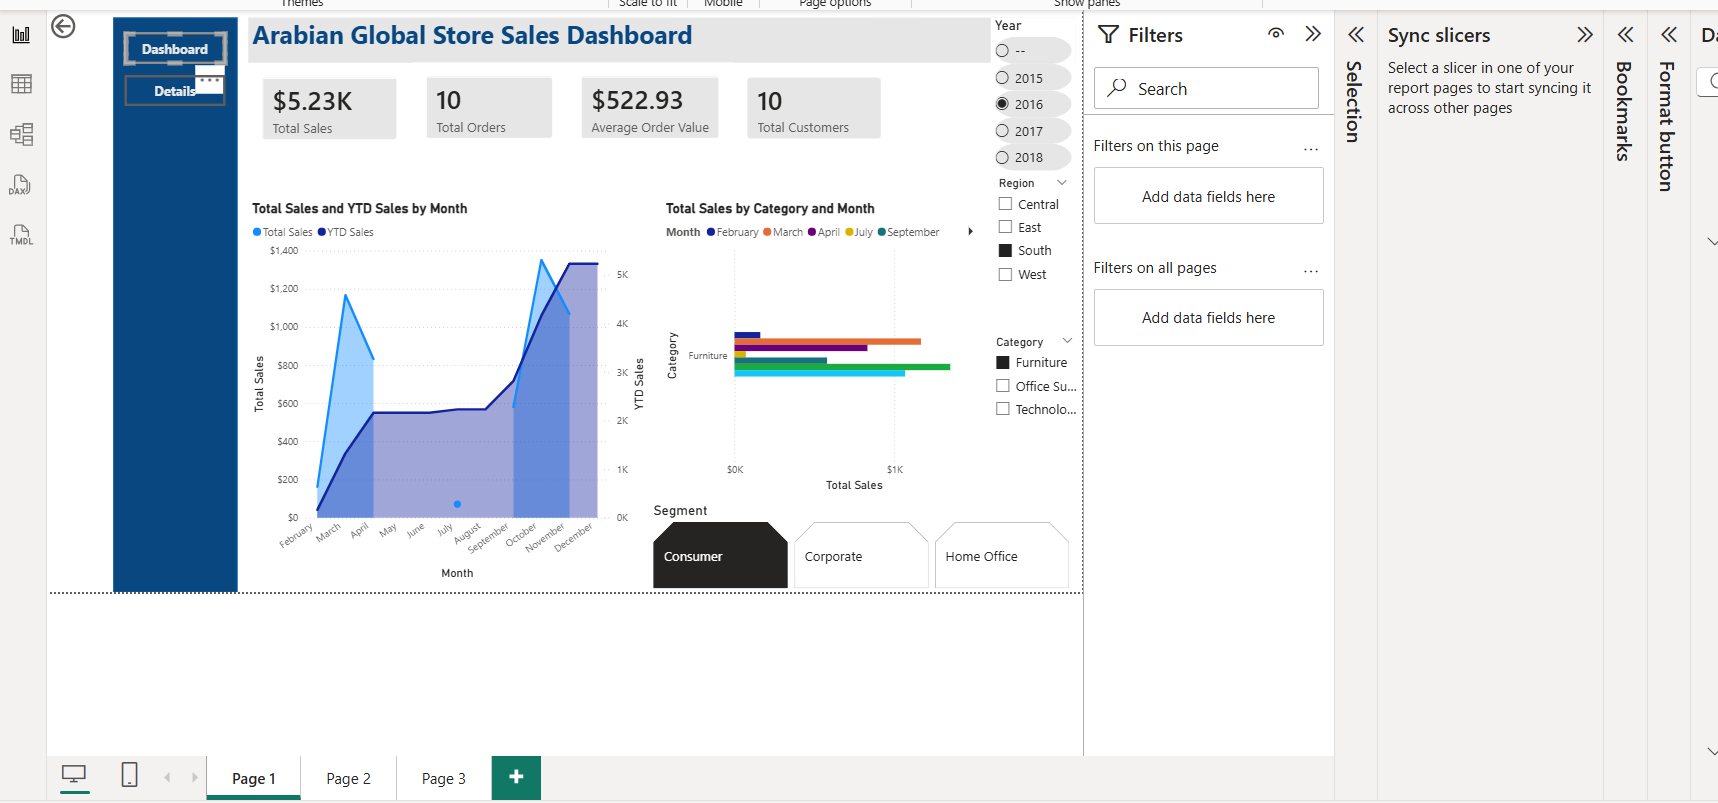

Layout of this report page (visuals, bound fields, positions):
{"tool":"powerbi","page":{"name":"Page 1","canvas":[1280,720],"ordinal":0},"visuals":[{"type":"shape","box":[82.3,9.6,153.7,710.8],"z":0},{"type":"textbox","title":"Arabian Global Store            Sales Dashboard","box":[248.3,9.6,1022.3,56.3],"z":0,"group":"g1"},{"type":"actionButton","box":[96.1,27.4,124.9,38.4],"z":1000},{"type":"cardVisual","fields":{"Data":["Fact_Orders.Total Sales"]},"box":[248.2,66,201.8,111.3],"z":1000,"group":"g1"},{"type":"cardVisual","fields":{"Data":["Fact_Orders.Total Orders"]},"box":[450,64.8,192,111.3],"z":2000,"group":"g1"},{"type":"actionButton","box":[96.1,79.6,124.9,38.4],"z":2000},{"type":"group","id":"g1","title":"Group 1","box":[248.2,9.6,1032.1,710.6],"z":3000},{"type":"cardVisual","fields":{"Data":["Fact_Orders.Average Order Value"]},"box":[642,64.8,205.4,111.3],"z":3000,"group":"g1"},{"type":"areaChart","fields":{"Category":["Dim_Date.Month"],"Y":["Fact_Orders.Total Sales"],"Y2":["Fact_Orders.YTD Sales"]},"box":[248.2,234.8,496.5,474.5],"z":4000,"group":"g1"},{"type":"actionButton","box":[0,0,100,40],"z":5000},{"type":"clusteredBarChart","fields":{"Y":["Fact_Orders.Total Sales"],"Category":["Dim_Products.Category"],"Series":["Dim_Date.Month"]},"box":[759.3,234.8,401.1,365.6],"z":5000,"group":"g1"},{"type":"cardVisual","fields":{"Data":["Dim_Customers.Total Customers"]},"box":[847.4,66,200.5,110.1],"z":6000,"group":"g1"},{"type":"listSlicer","fields":{"Values":["Dim_Date.Year"]},"box":[1165.3,9.8,105.2,297.1],"z":7000,"group":"g1"},{"type":"slicer","fields":{"Values":["Fact_Orders.Region"]},"box":[1162.9,200.5,110.1,181],"z":8000,"group":"g1"},{"type":"slicer","fields":{"Values":["Dim_Products.Category"]},"box":[1160.4,397.4,119.8,220.1],"z":9000,"group":"g1"},{"type":"advancedSlicerVisual","fields":{"Values":["Dim_Customers.Segment"]},"box":[744.7,609,525.8,111.3],"z":10000,"group":"g1"}]}

Visuals, with their boxes on the page's 1280x720 design canvas (x1, y1, x2, y2). These are canvas units, not pixel positions in the 1718x803 screenshot, which may show the page scaled, cropped or inside an application window:
shape: x1=82 y1=10 x2=236 y2=720
"Arabian Global Store            Sales Dashboard" textbox: x1=248 y1=10 x2=1271 y2=66
actionButton: x1=96 y1=27 x2=221 y2=66
cardVisual - Fact_Orders.Total Sales: x1=248 y1=66 x2=450 y2=177
cardVisual - Fact_Orders.Total Orders: x1=450 y1=65 x2=642 y2=176
actionButton: x1=96 y1=80 x2=221 y2=118
"Group 1" group: x1=248 y1=10 x2=1280 y2=720
cardVisual - Fact_Orders.Average Order Value: x1=642 y1=65 x2=847 y2=176
areaChart - Dim_Date.Month x Fact_Orders.Total Sales: x1=248 y1=235 x2=745 y2=709
actionButton: x1=0 y1=0 x2=100 y2=40
clusteredBarChart - Fact_Orders.Total Sales x Dim_Products.Category: x1=759 y1=235 x2=1160 y2=600
cardVisual - Dim_Customers.Total Customers: x1=847 y1=66 x2=1048 y2=176
listSlicer - Dim_Date.Year: x1=1165 y1=10 x2=1270 y2=307
slicer - Fact_Orders.Region: x1=1163 y1=200 x2=1273 y2=382
slicer - Dim_Products.Category: x1=1160 y1=397 x2=1280 y2=618
advancedSlicerVisual - Dim_Customers.Segment: x1=745 y1=609 x2=1270 y2=720
